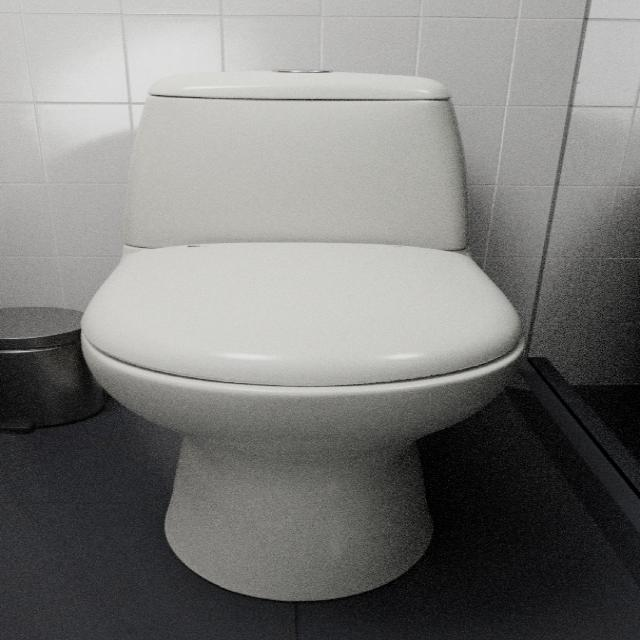toilet: (78, 69, 526, 601)
